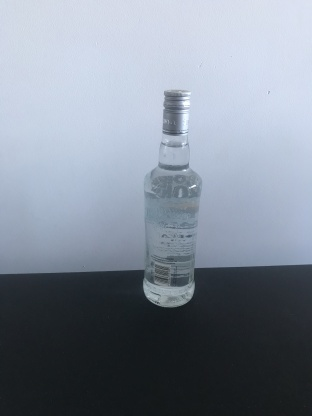nakretka: (161, 87, 192, 137)
